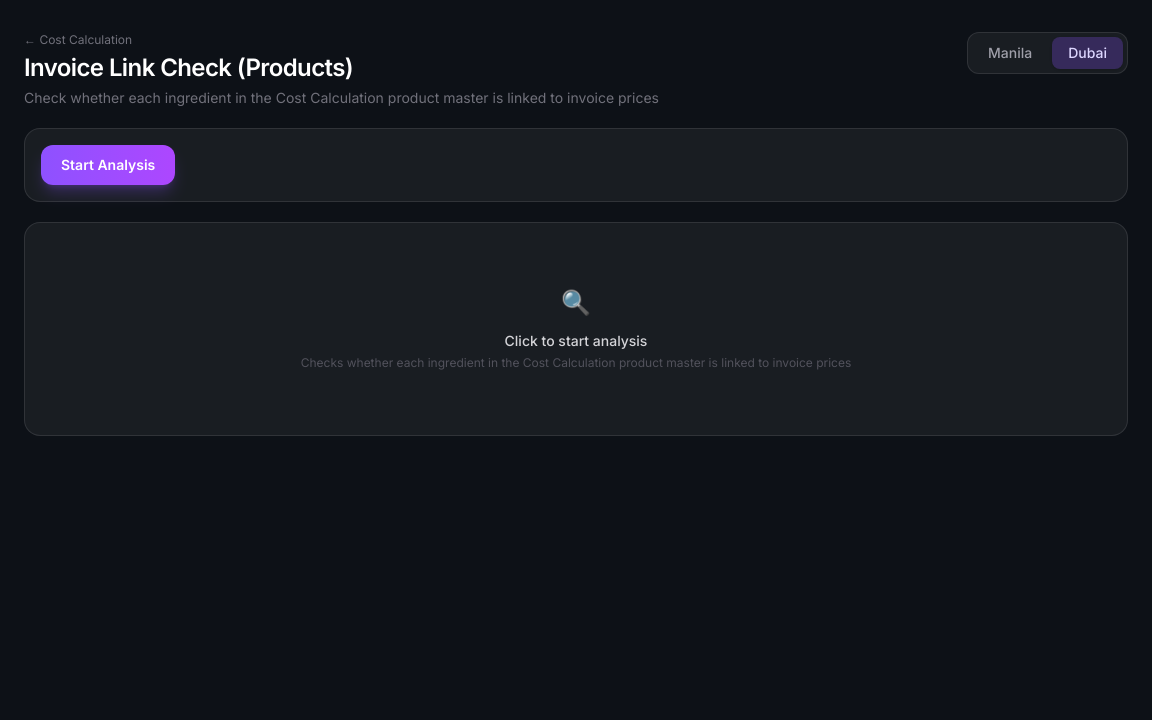
Test: CostCheckPage — analyze button › shows product items after analysis completes
Expected: the heading "Invoice Link Check (Products)" is shown, [24,53,353,82]
Click the button "Start Analysis".
click(108, 165)  # box [41,145,175,185]
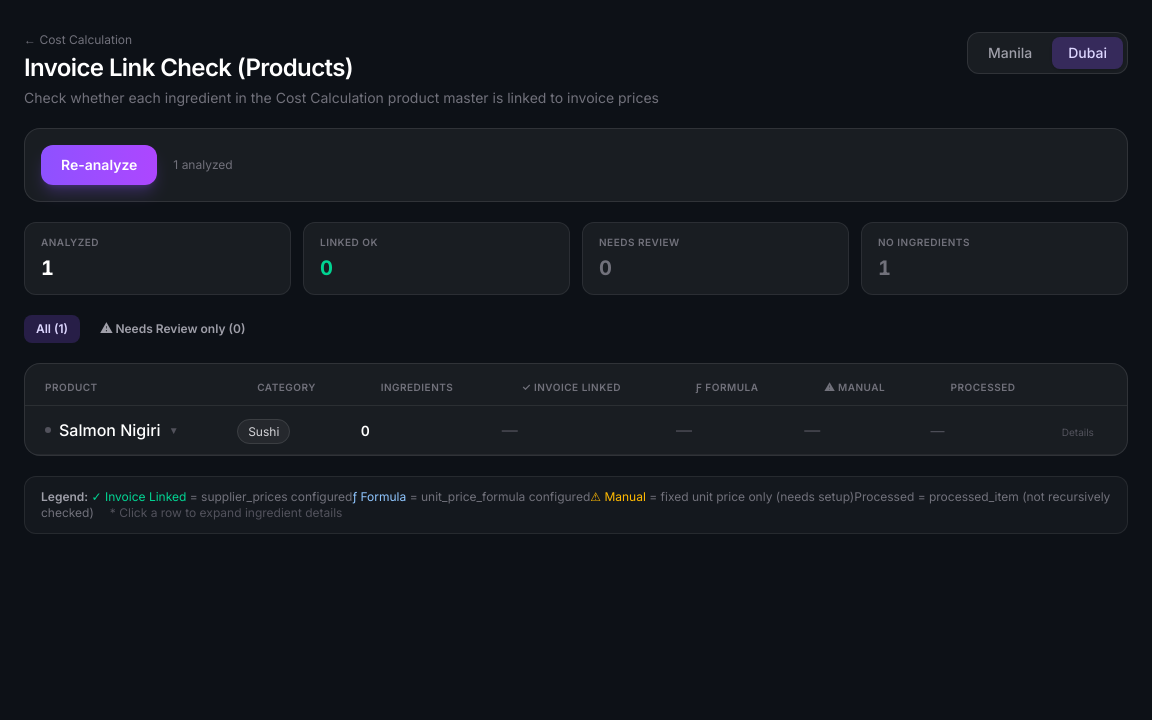
Expected: the text "Salmon Nigiri" is shown, [59,418,161,442]
Expected: the text "Sushi" is shown, [237,419,290,444]
